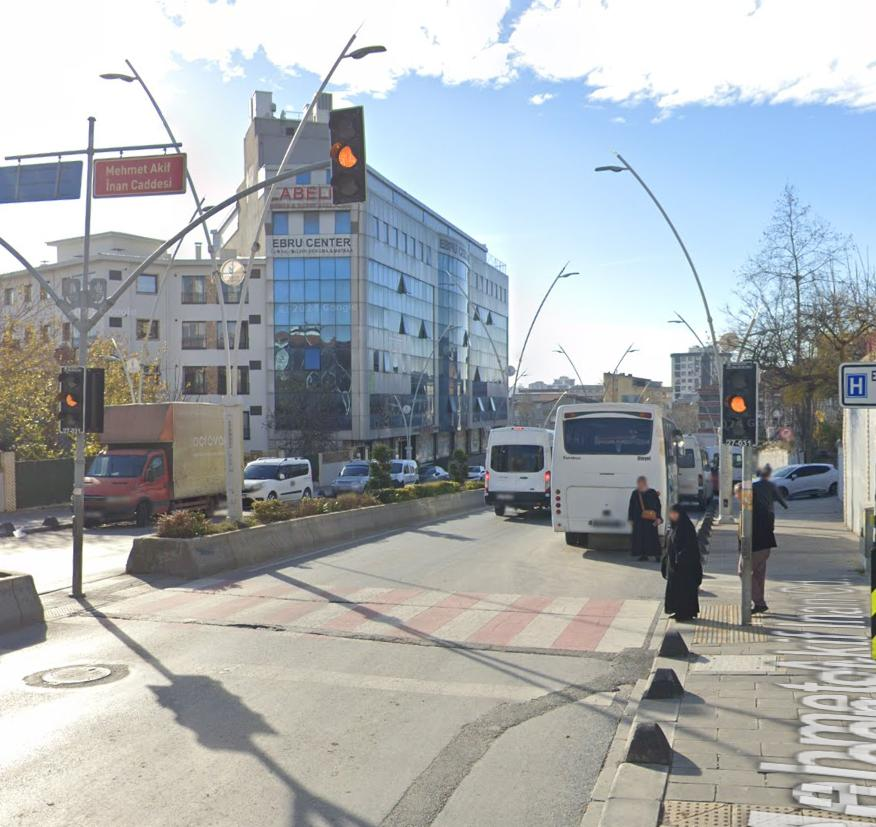yellowlight: (330, 108, 367, 196), (724, 363, 755, 437), (58, 367, 82, 424)
